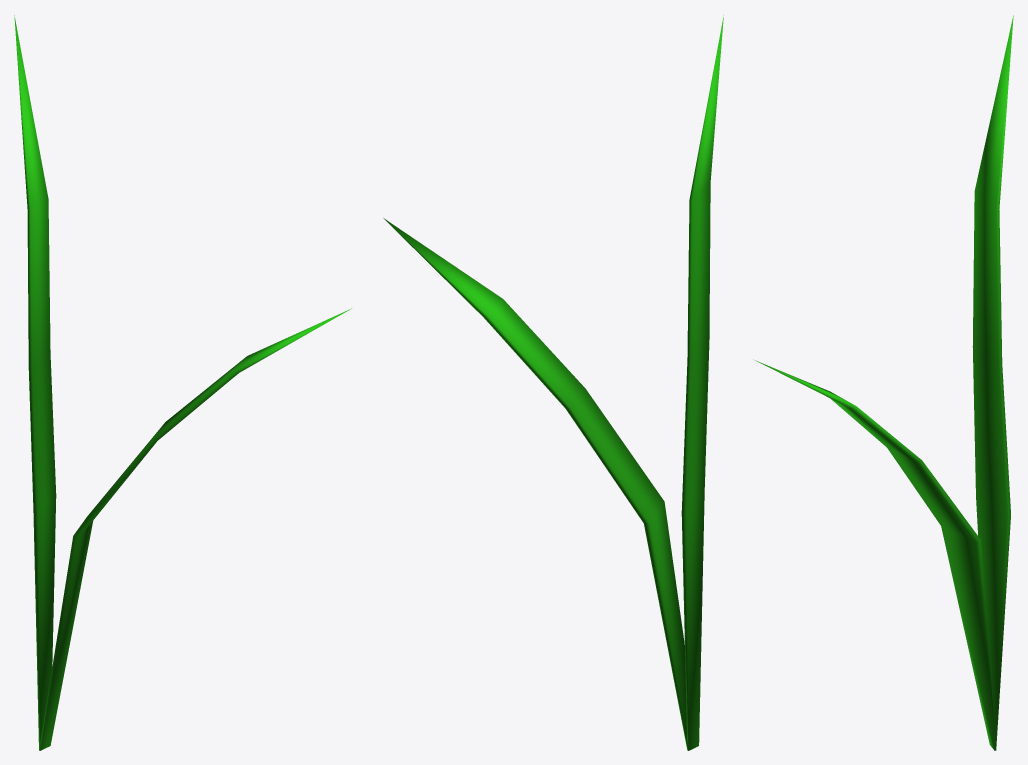
The model's file is Gramas.fbx.
The picture shows the model from 3 angles, left to right: view 1: azimuth 30°, elevation 25°; view 2: azimuth 210°, elevation 25°; view 3: azimuth 270°, elevation 25°; orthographic projection.
Visible parts, largest first — view 1: GramaFitaB; view 2: GramaFitaB; view 3: GramaFitaB.
Boxes of the visible parts, x1,y1,x2,y2 form: GramaFitaB: [14, 15, 351, 750]; GramaFitaB: [383, 15, 723, 750]; GramaFitaB: [753, 15, 1013, 750].
Bounding box in the file's own units: 148 × 489 × 160.
